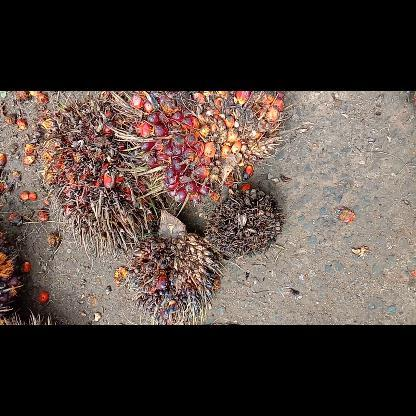TBS abnormal: (119, 207, 223, 324), (204, 186, 286, 258)
TBS masak: (102, 92, 286, 206)
Terlalu masak: (32, 100, 174, 260)
